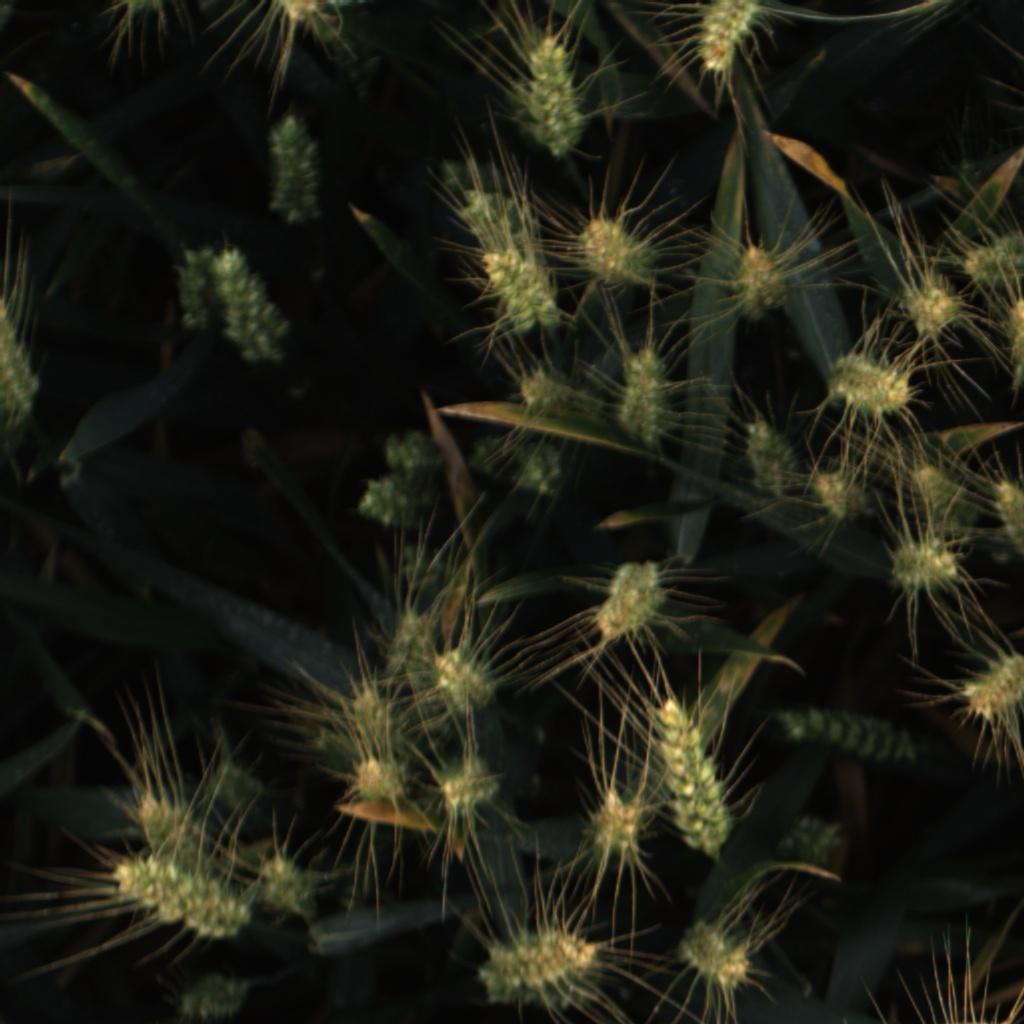0-0: (652, 697, 734, 856), (106, 853, 254, 940), (209, 246, 298, 367), (773, 700, 918, 769), (520, 30, 592, 161), (479, 929, 597, 1006), (476, 249, 569, 336), (0, 292, 53, 441), (259, 115, 329, 224), (576, 213, 668, 291), (457, 187, 551, 263), (674, 912, 757, 995), (617, 337, 680, 446), (592, 550, 665, 641), (576, 781, 650, 863), (826, 353, 918, 418), (508, 362, 606, 423), (737, 413, 804, 498), (133, 781, 209, 854), (169, 244, 229, 335), (256, 841, 325, 920), (771, 809, 851, 877), (377, 610, 448, 684), (728, 242, 792, 324), (339, 682, 413, 752), (689, 1, 759, 74), (960, 643, 1024, 722), (194, 755, 275, 817), (903, 458, 971, 530), (437, 637, 498, 713), (808, 464, 877, 531), (884, 533, 962, 592), (176, 968, 256, 1024), (357, 477, 437, 532), (438, 755, 504, 815), (895, 273, 956, 337), (505, 439, 572, 496), (380, 423, 447, 480), (959, 232, 1024, 287), (348, 751, 409, 806), (395, 545, 453, 601), (990, 477, 1024, 568), (1002, 295, 1024, 394), (464, 434, 517, 475), (271, 0, 322, 26), (117, 0, 166, 13)
